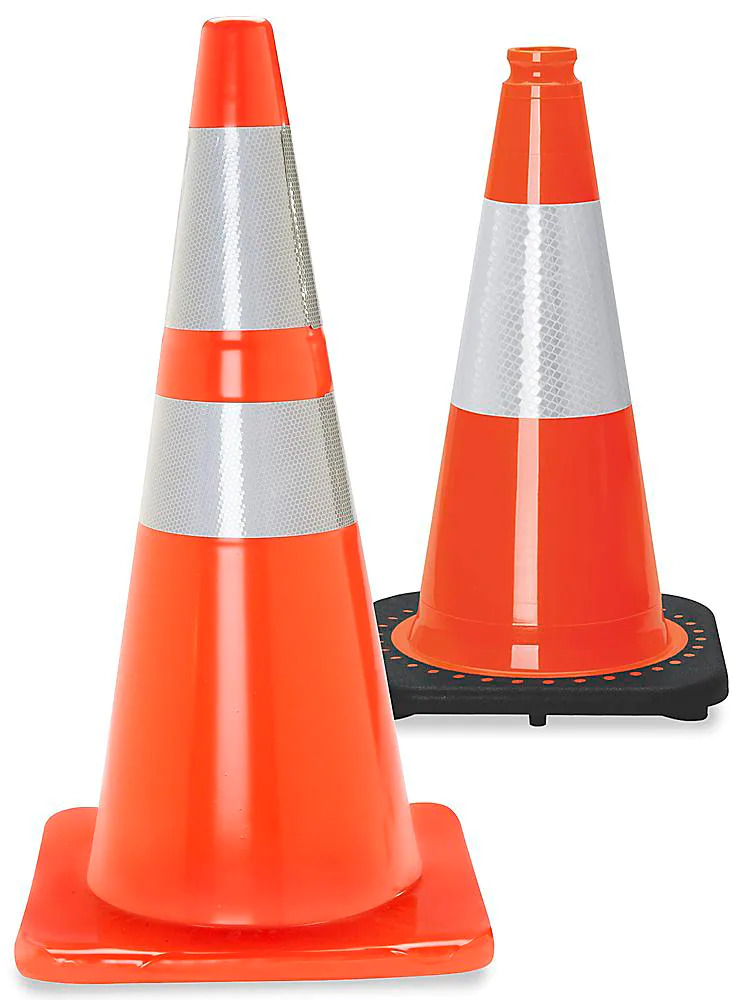cones: (20, 11, 497, 985), (398, 36, 741, 726)
